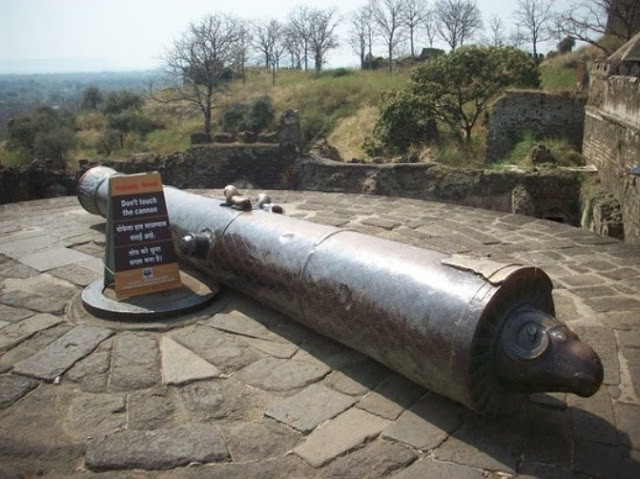Mendha Tope: (2, 7, 632, 470)
